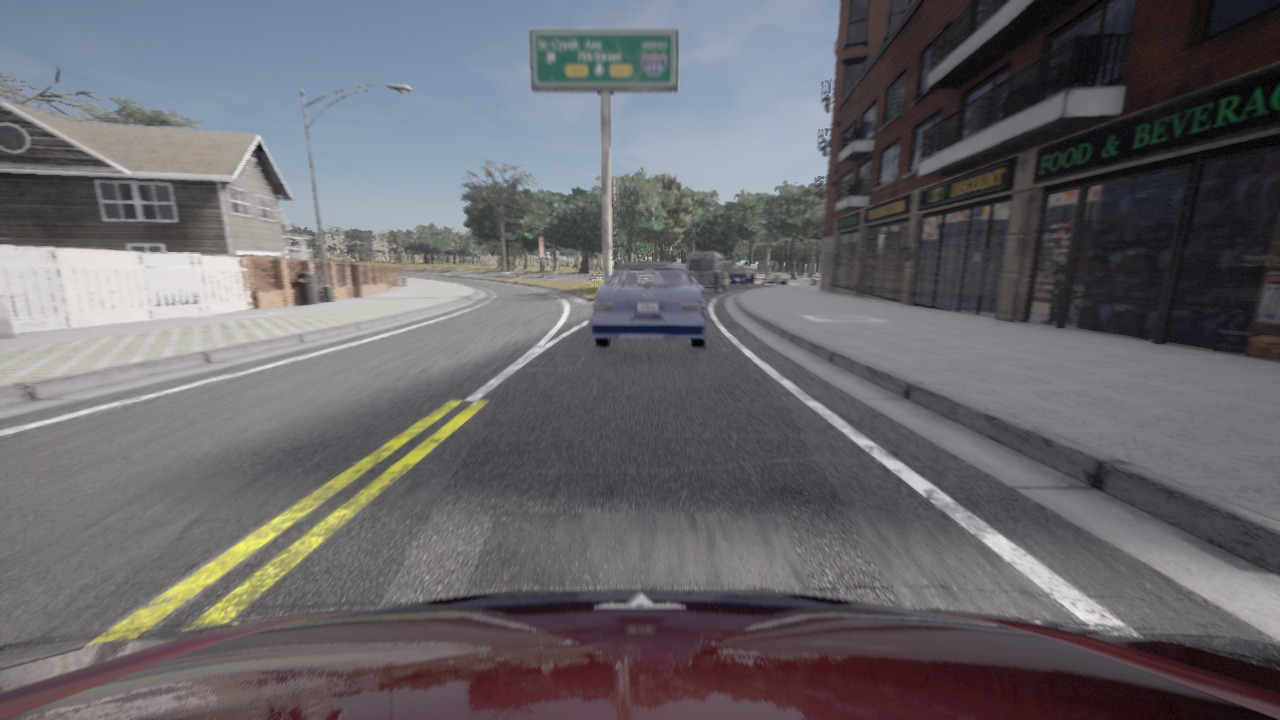cyclist: (0, 588, 1279, 719), (589, 263, 707, 348), (686, 252, 728, 292), (727, 266, 756, 287), (761, 274, 788, 285), (813, 275, 819, 284)
